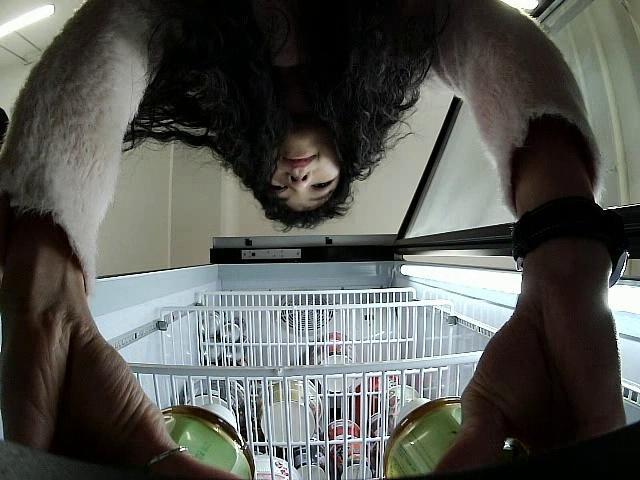19_17cha: (157, 395, 256, 480), (379, 393, 464, 480)
